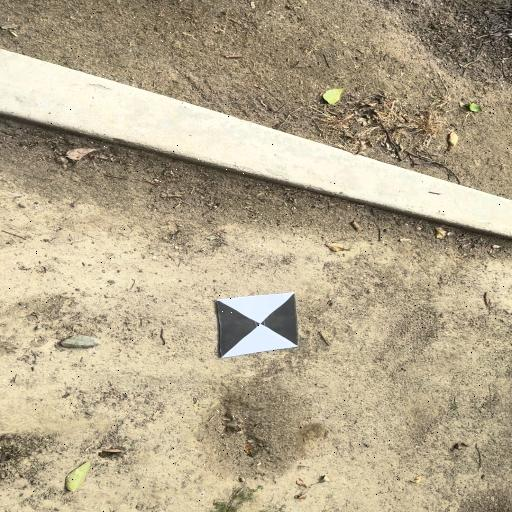target: (218, 295, 299, 358)
